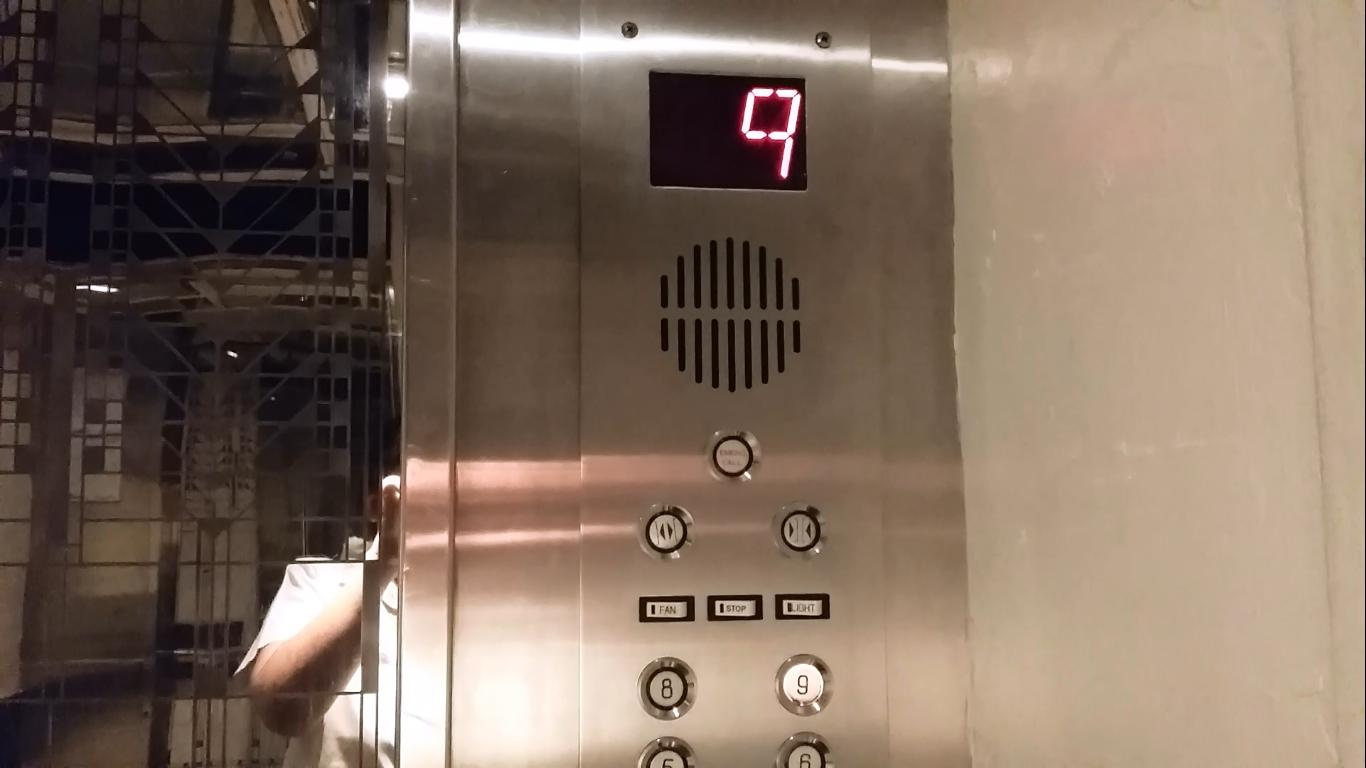8: (631, 653, 701, 724)
9: (766, 648, 836, 719)
close: (765, 497, 833, 563)
led: (642, 66, 812, 196)
open: (632, 498, 700, 564)
switch: (635, 591, 696, 626), (703, 590, 764, 625), (770, 590, 831, 625)
text_blur: (697, 423, 765, 489)
